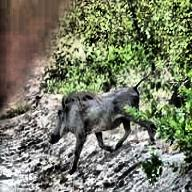boar: (20, 86, 184, 160)
